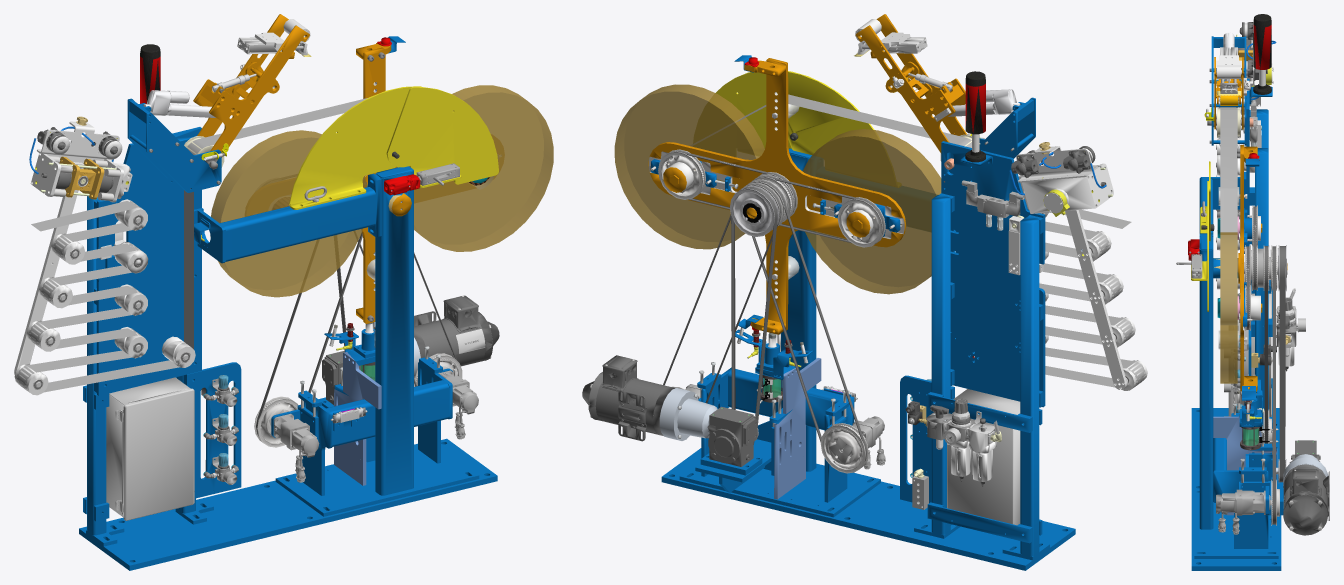
3 views of the same model, side by side, from view 1: azimuth 30°, elevation 25°; view 2: azimuth 150°, elevation 25°; view 3: azimuth 270°, elevation 25° (orthographic). The views are drawn at different scales.
Parts seen in each view (by area): view 1: M114000_Simplify_1; view 2: M114000_Simplify_1; view 3: M114000_Simplify_1.
Boxes of the visible parts, x1=… form: M114000_Simplify_1: x1=14, y1=14, x2=553, y2=570; M114000_Simplify_1: x1=582, y1=14, x2=1147, y2=570; M114000_Simplify_1: x1=1176, y1=14, x2=1329, y2=570.
Bounding box in the file's own units: 1.98 × 1.76 × 0.5656.
Materials: 80 (6 with a texture image).
